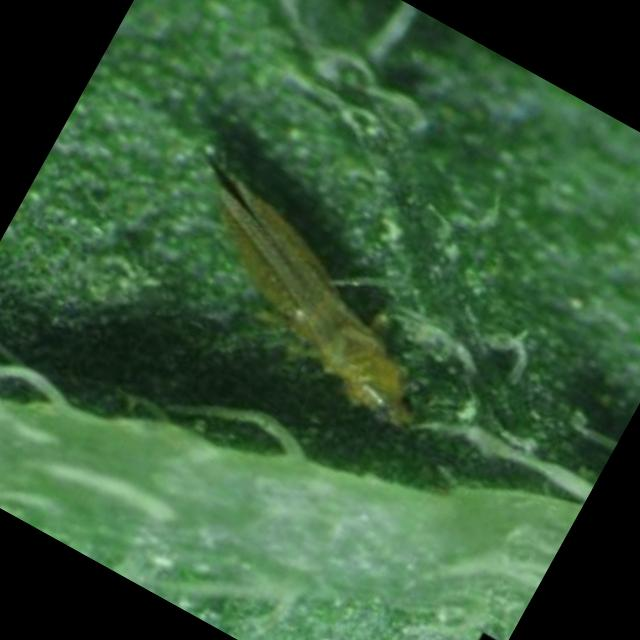melon thrips: (74, 88, 530, 482)
